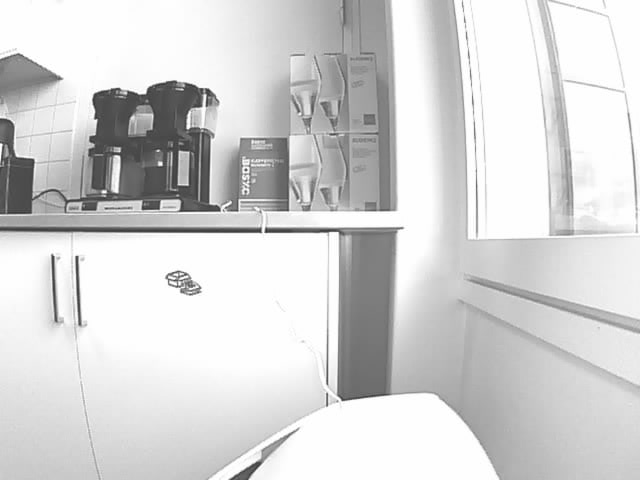empty coffee: (86, 145, 133, 197)
not empty coffee: (140, 146, 195, 195)
